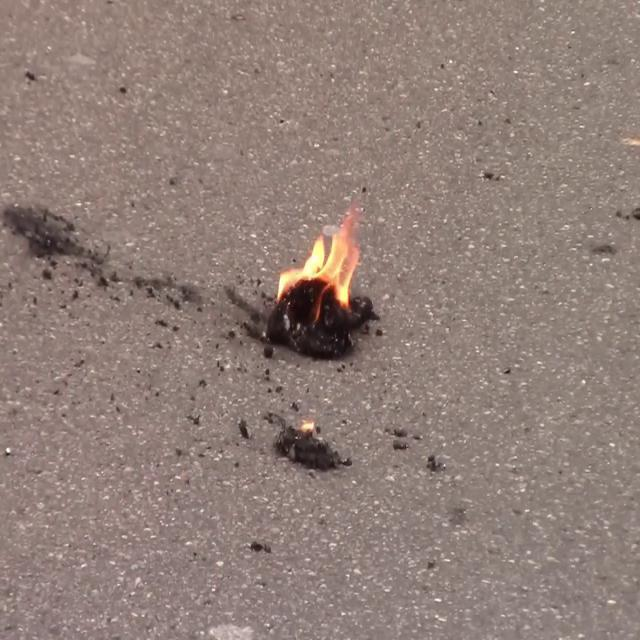Fire: (274, 214, 365, 314)
